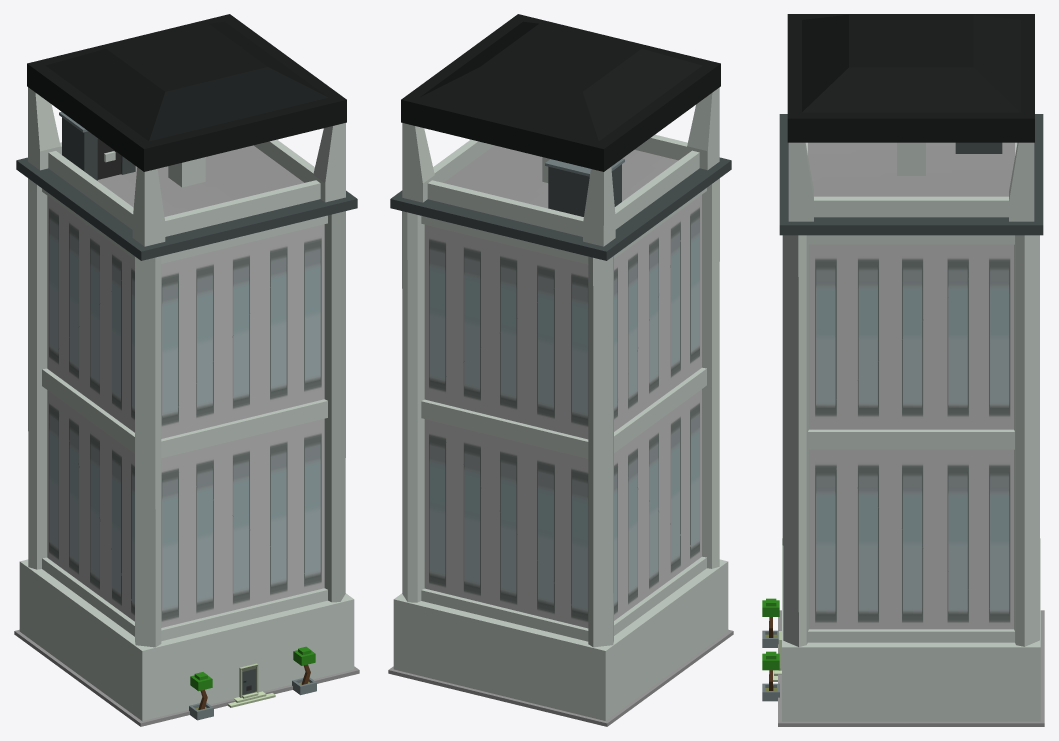
Rendered from Sky Scraper Pilars Low.fbx.
3 renders of one model, left to right at view 1: azimuth 30°, elevation 25°; view 2: azimuth 150°, elevation 25°; view 3: azimuth 270°, elevation 25°, orthographic. The views are drawn at different scales.
Visible parts, largest first — view 1: Sky Scraper Pilars Low; view 2: Sky Scraper Pilars Low; view 3: Sky Scraper Pilars Low.
Boxes of the visible parts, x1,y1,x2,y2 form: Sky Scraper Pilars Low: (14, 14, 359, 726); Sky Scraper Pilars Low: (388, 14, 733, 726); Sky Scraper Pilars Low: (762, 14, 1044, 726).
Size of the model in its own units: 6.16 by 16.02 by 6.52.
